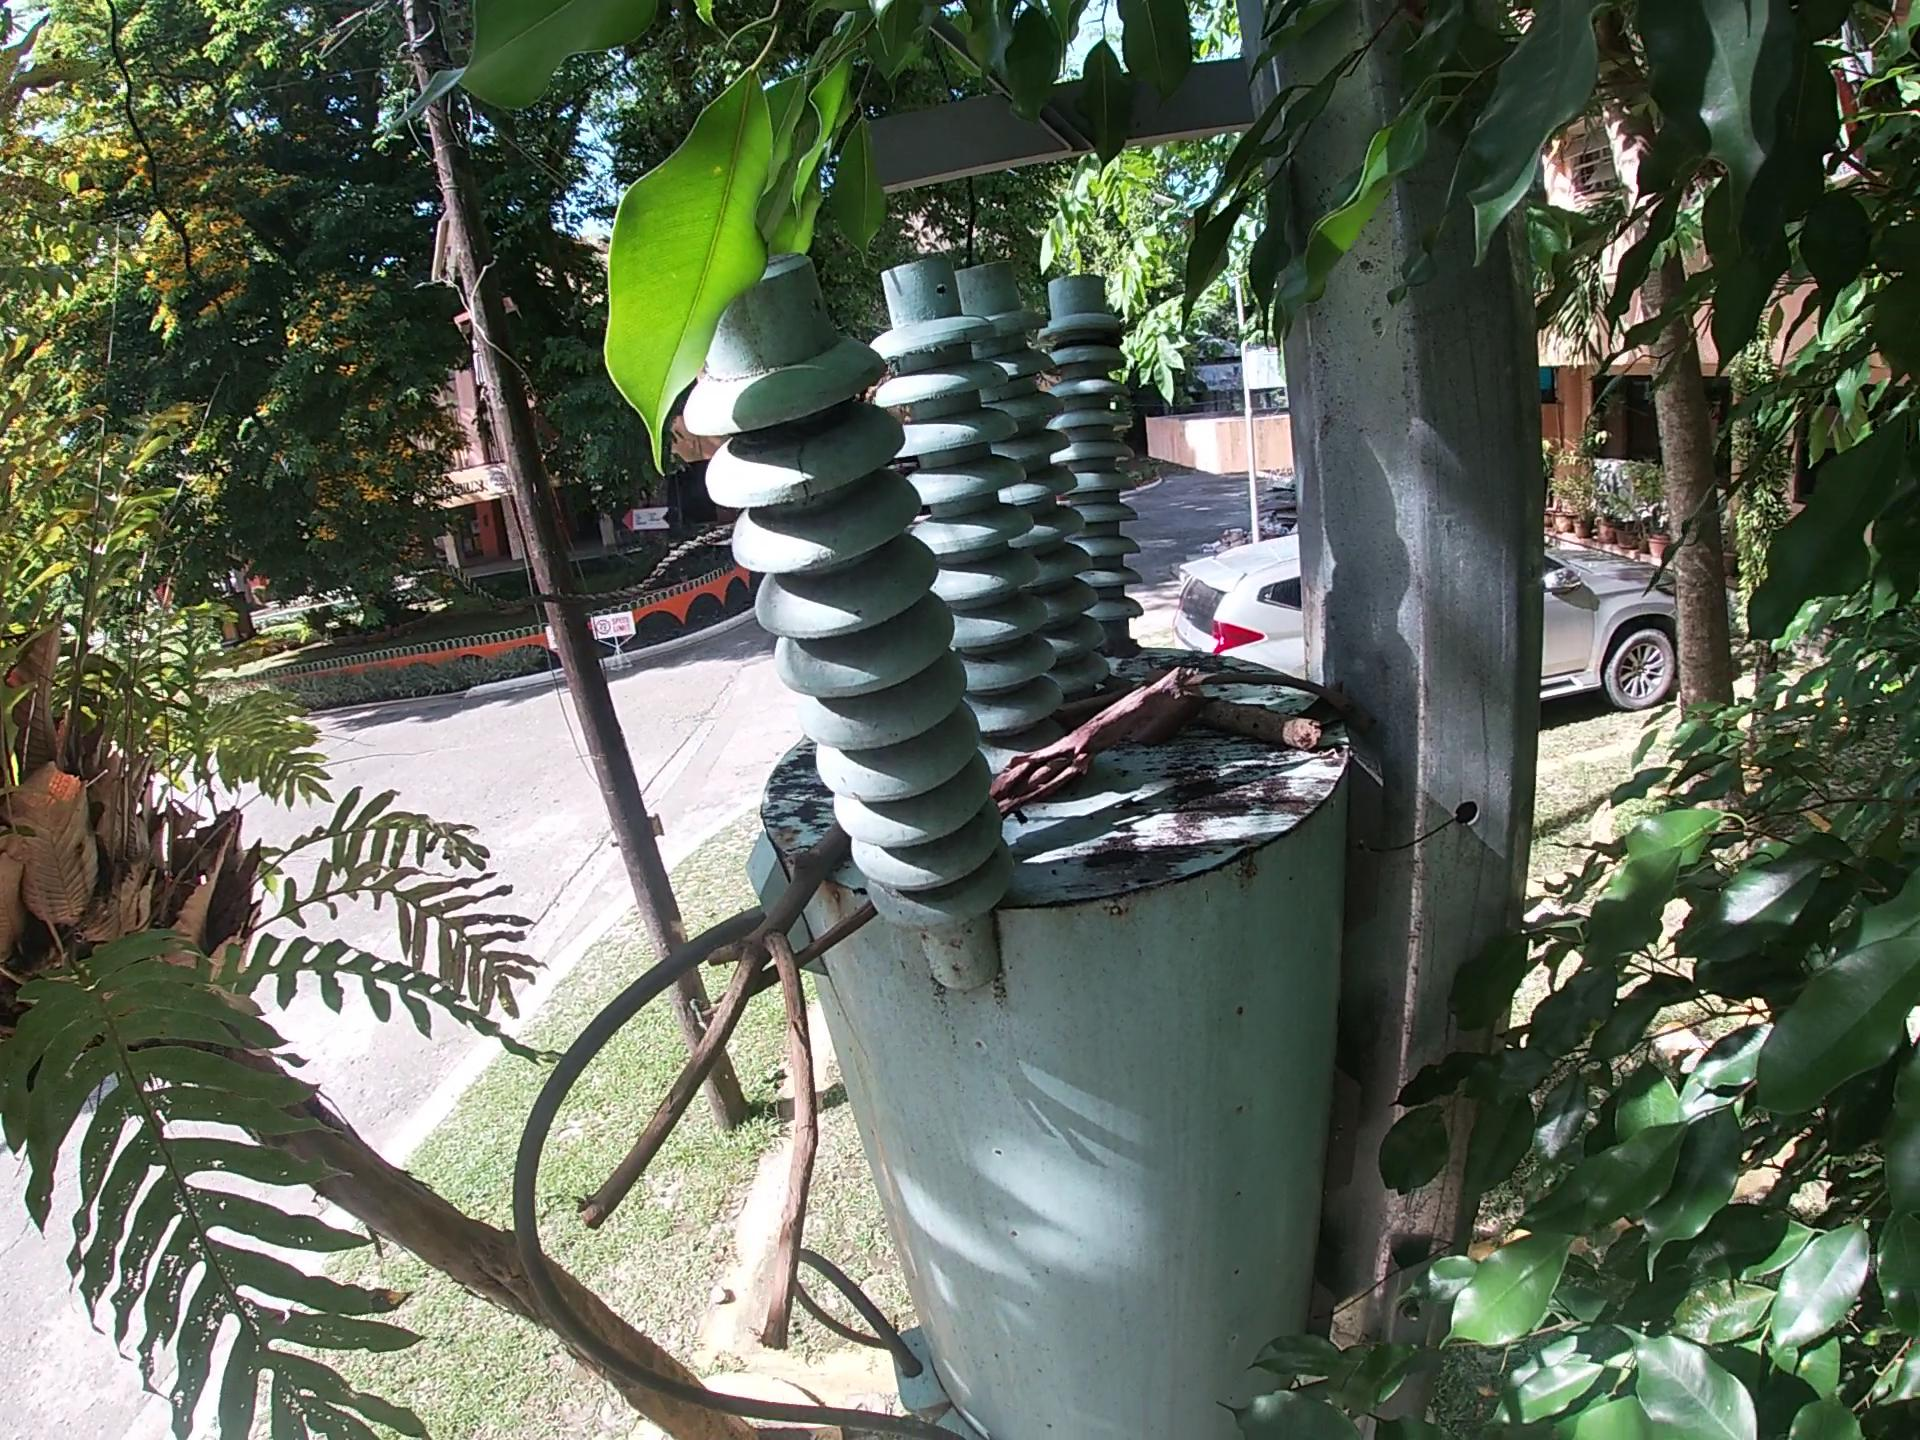tree branch: (513, 821, 866, 1404), (989, 661, 1205, 821), (1101, 669, 1346, 746), (1042, 669, 1352, 709)
